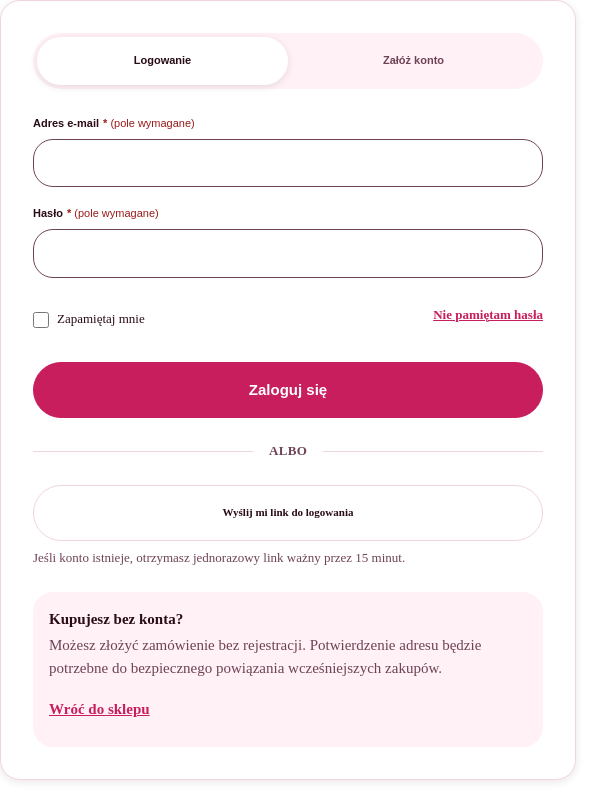
Test: account passwordless login action › uses only the email and does not require a password
Type "anna@example.test" into the field labelled "Adres e-mail* (pole wymagane)" at (288, 163), box [33,139,543,187]
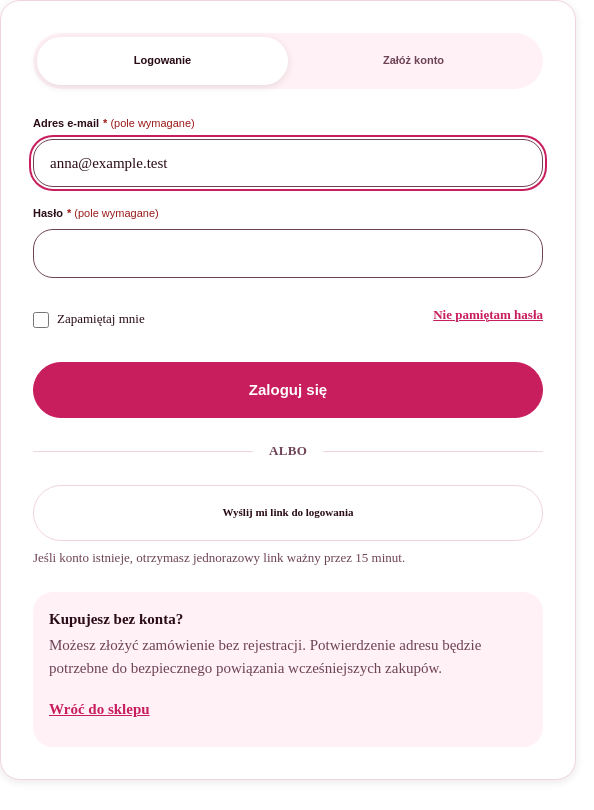
Click the button "Wyślij mi link do logowania" at (288, 513), box [33,485,543,541]
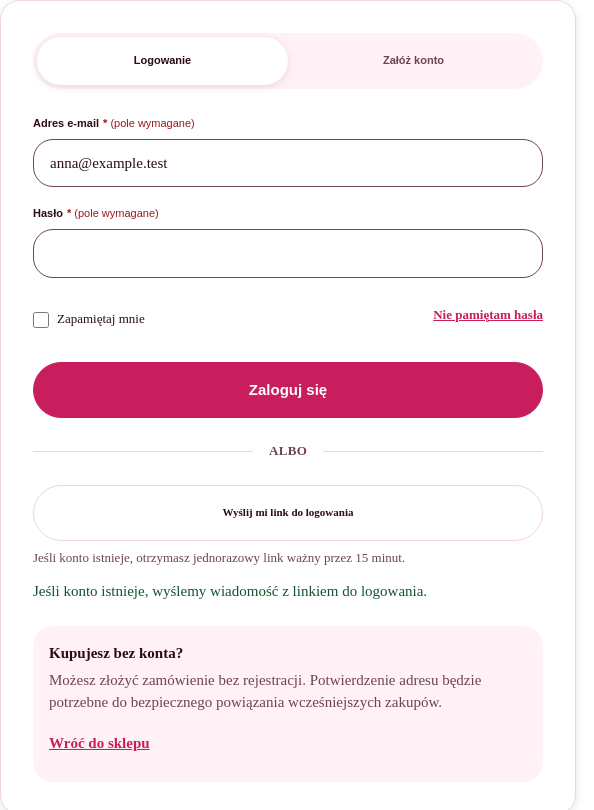
Expected: the text "Jeśli konto istnieje, wyślemy wiadomość z linkiem do logowania." is shown, [33,583,427,599]
